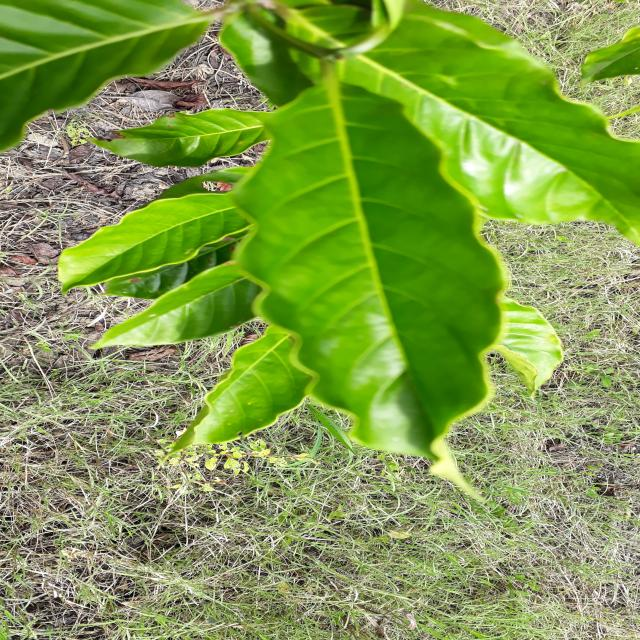Sanas: (232, 84, 509, 464)
